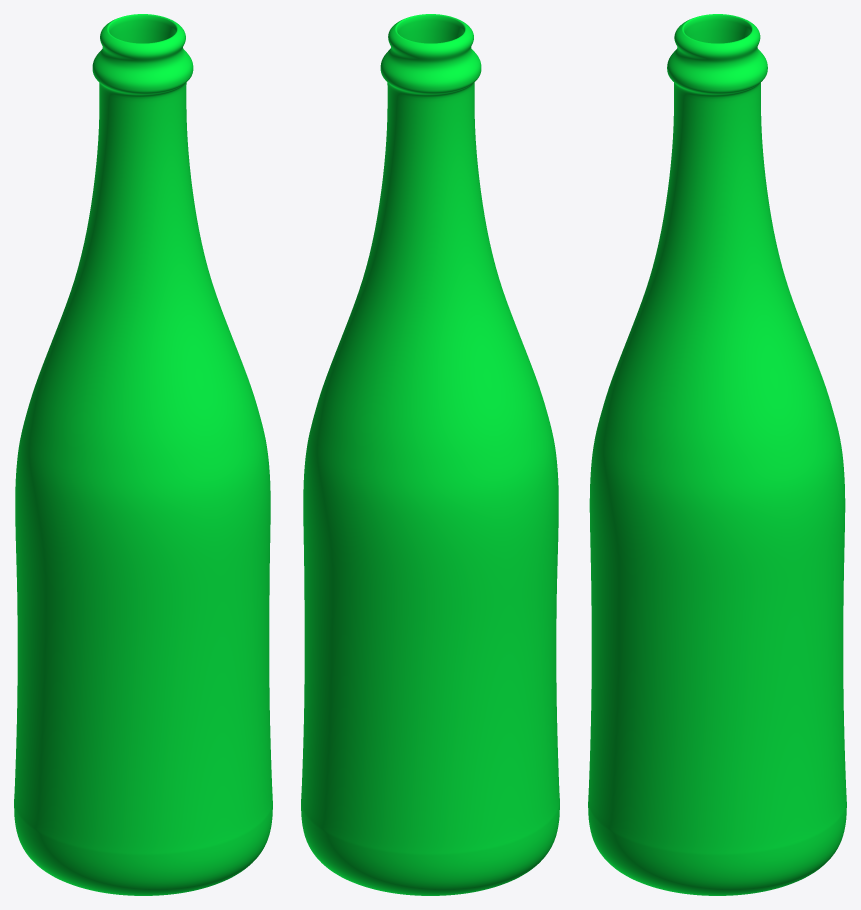
The model's file is Bottle.fbx.
3 renders of one model, left to right at view 1: azimuth 30°, elevation 25°; view 2: azimuth 150°, elevation 25°; view 3: azimuth 270°, elevation 25°, orthographic.
Visible parts, largest first — view 1: Circle; view 2: Circle; view 3: Circle.
Boxes of the visible parts, x1,y1,x2,y2 form: Circle: [14, 14, 272, 895]; Circle: [301, 14, 559, 895]; Circle: [588, 14, 846, 895].
Bounding box in the file's own units: 352 × 1238 × 352.
